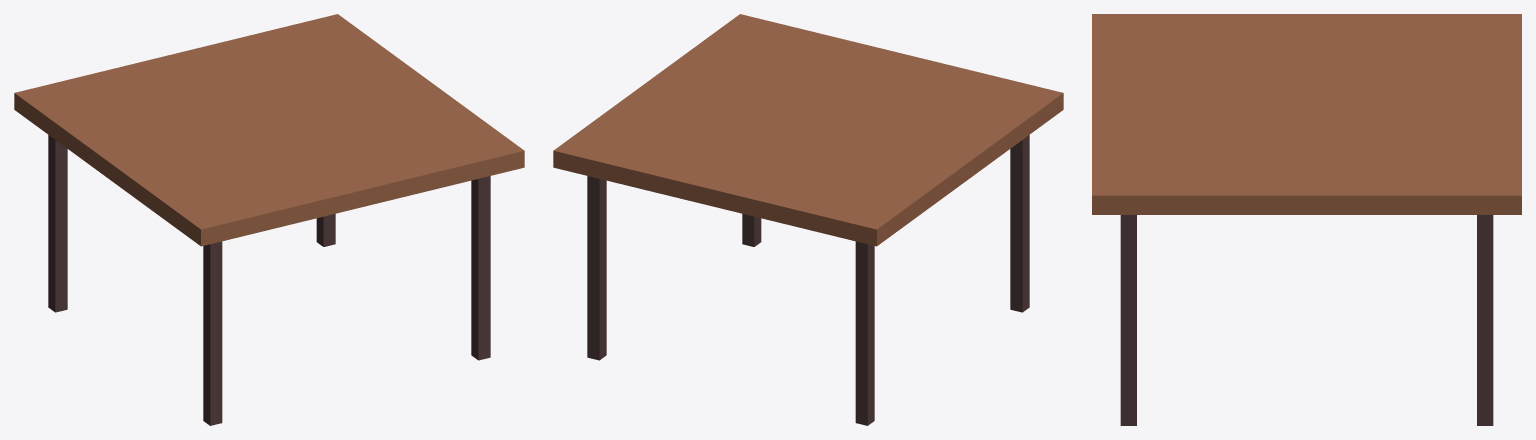
Rendered from Table.fbx.
3 views of the same model, side by side, from view 1: azimuth 30°, elevation 25°; view 2: azimuth 150°, elevation 25°; view 3: azimuth 270°, elevation 25° (orthographic). The views are drawn at different scales.
Parts seen in each view (by area): view 1: Table; view 2: Table; view 3: Table.
Part boxes in pixels (left/top/right/bottom): Table: left=14, top=14, right=524, bottom=425; Table: left=553, top=14, right=1063, bottom=425; Table: left=1092, top=14, right=1521, bottom=425.
Size of the model in its own units: 1.5 by 0.9339 by 1.5.
